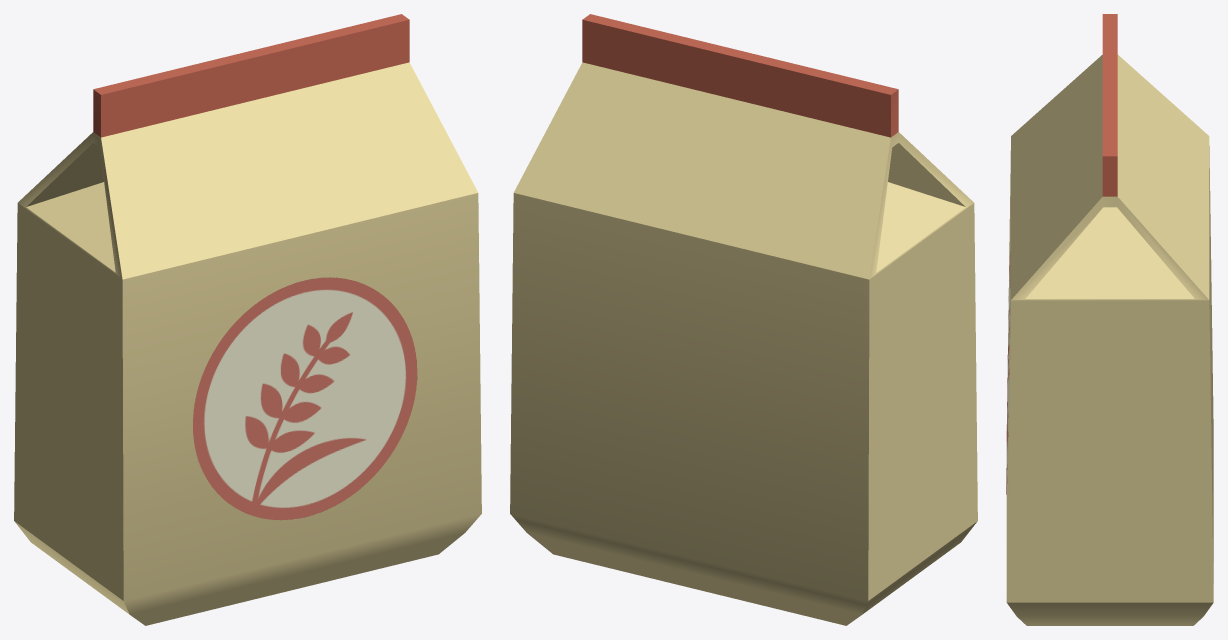
Rendered from flour.fbx.
3 views of the same model, side by side, from view 1: azimuth 30°, elevation 25°; view 2: azimuth 150°, elevation 25°; view 3: azimuth 270°, elevation 25° (orthographic). The views are drawn at different scales.
Parts seen in each view (by area): view 1: bag; view 2: bag; view 3: bag.
Boxes of the visible parts, x1,y1,x2,y2 form: bag: [14, 14, 481, 625]; bag: [510, 14, 977, 625]; bag: [1006, 14, 1213, 625].
Bounding box in the file's own units: 74.44 × 99.78 × 39.53.
Materials: 3 (1 with a texture image).
